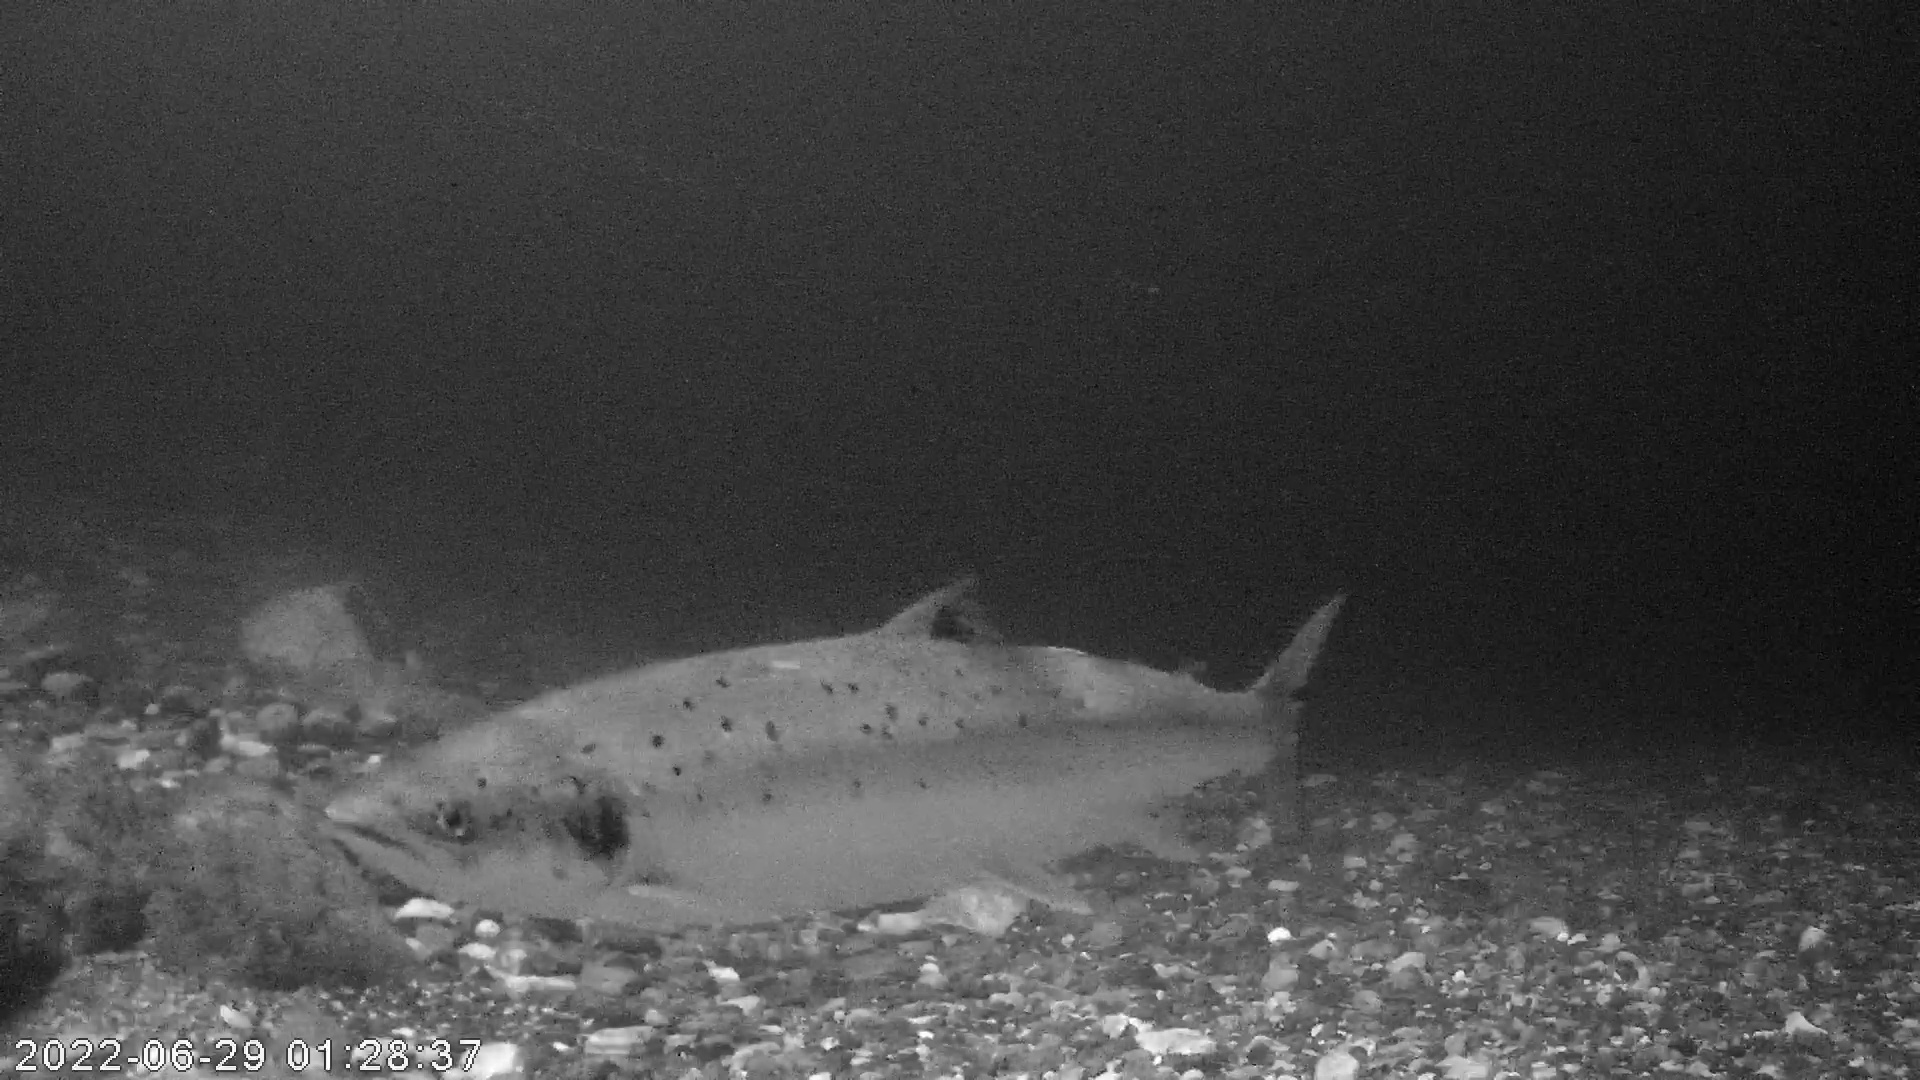salmon: (319, 562, 1352, 942)
